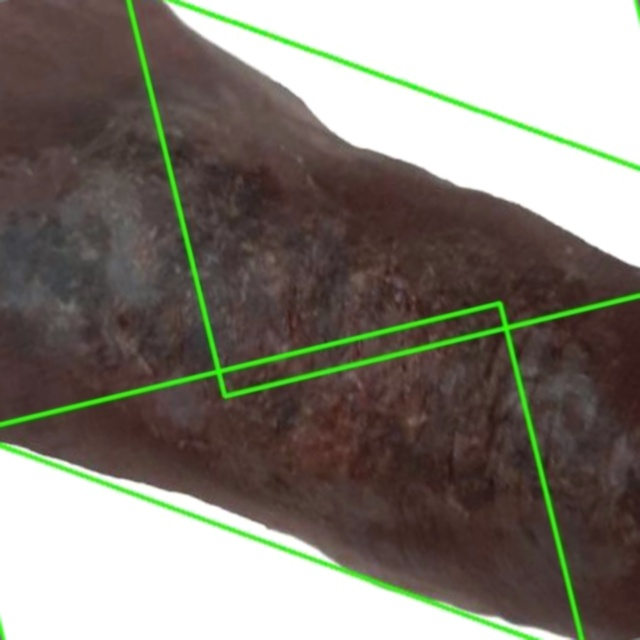Contact Dermatitis: (0, 31, 639, 589), (128, 0, 639, 396), (0, 303, 581, 639)
